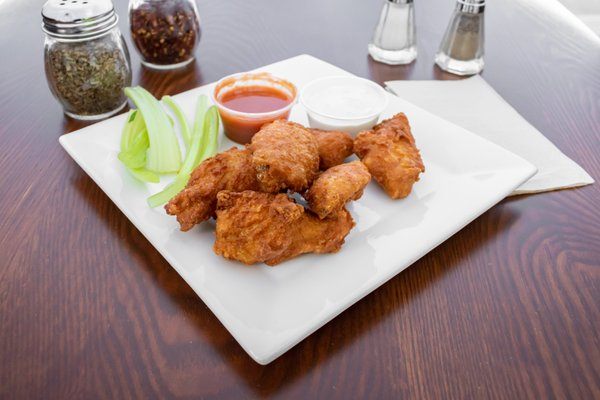sushi: (212, 70, 298, 144)
